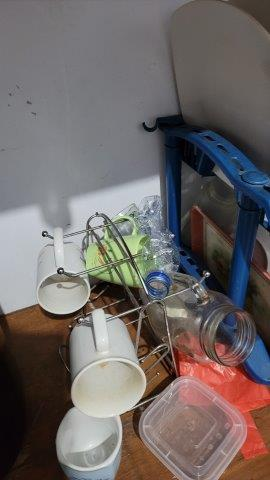botolplastik: (129, 197, 181, 299)
